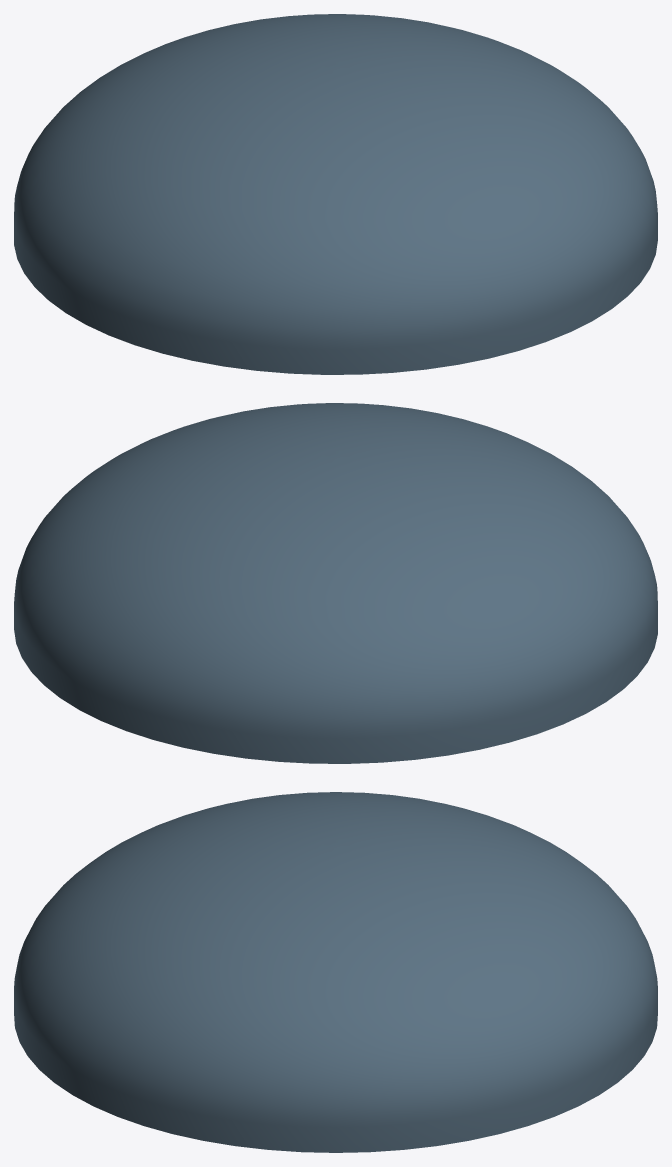
Rendered from zaglushka-426x10-H125.glb.
3 views of the same model, one above another, from view 1: azimuth 30°, elevation 25°; view 2: azimuth 150°, elevation 25°; view 3: azimuth 270°, elevation 25° (orthographic).
Parts seen in each view (by area): view 1: Open CASCADE STEP translator 7.9 13; view 2: Open CASCADE STEP translator 7.9 13; view 3: Open CASCADE STEP translator 7.9 13.
Part boxes in pixels (bbox=[...]): Open CASCADE STEP translator 7.9 13: bbox=[14, 14, 657, 374]; Open CASCADE STEP translator 7.9 13: bbox=[14, 403, 657, 763]; Open CASCADE STEP translator 7.9 13: bbox=[14, 792, 657, 1152].
Bounding box in the file's own units: 426 × 125 × 426.
